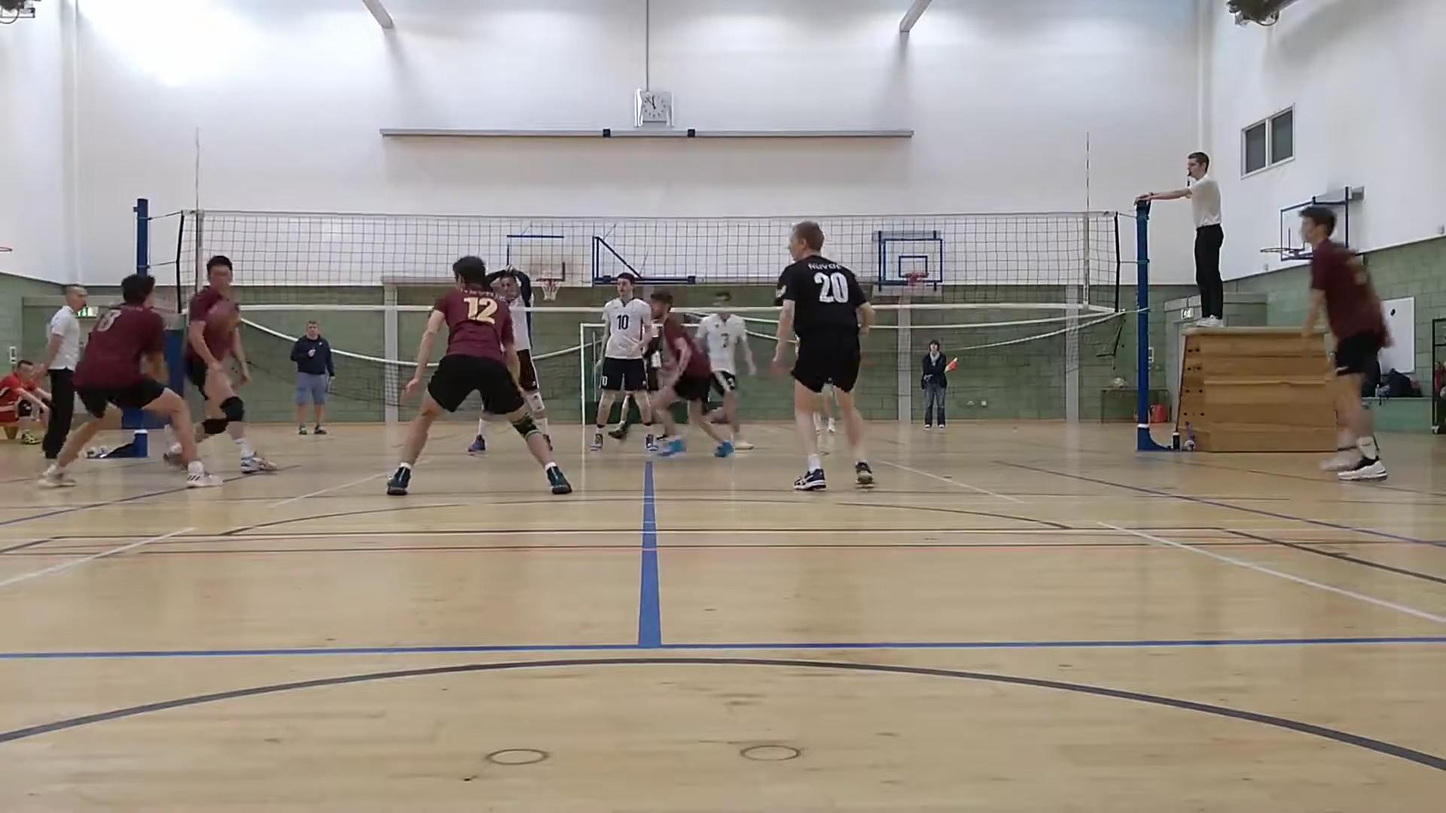Player: (386, 257, 571, 495), (38, 268, 223, 493), (773, 221, 874, 490), (1301, 206, 1390, 480), (183, 255, 275, 473), (650, 291, 733, 457), (590, 273, 657, 450), (487, 267, 550, 445), (697, 291, 755, 449), (644, 321, 662, 400), (814, 385, 837, 434)
Receive: (41, 275, 220, 487)
